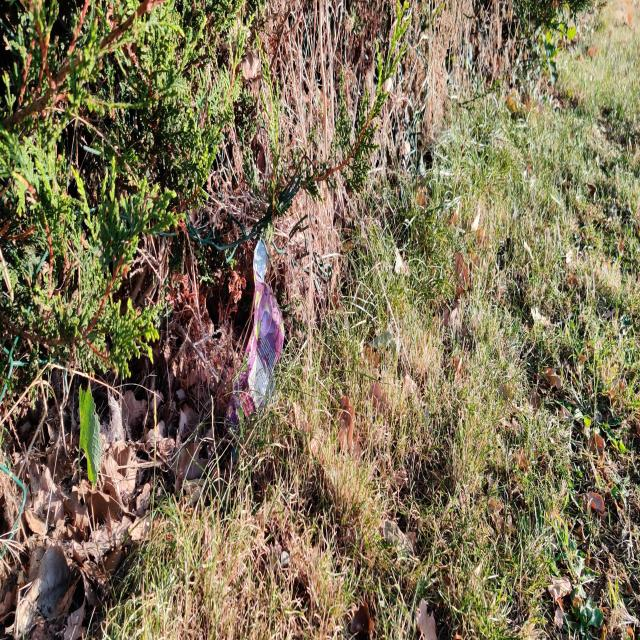litter: (237, 232, 285, 421)
